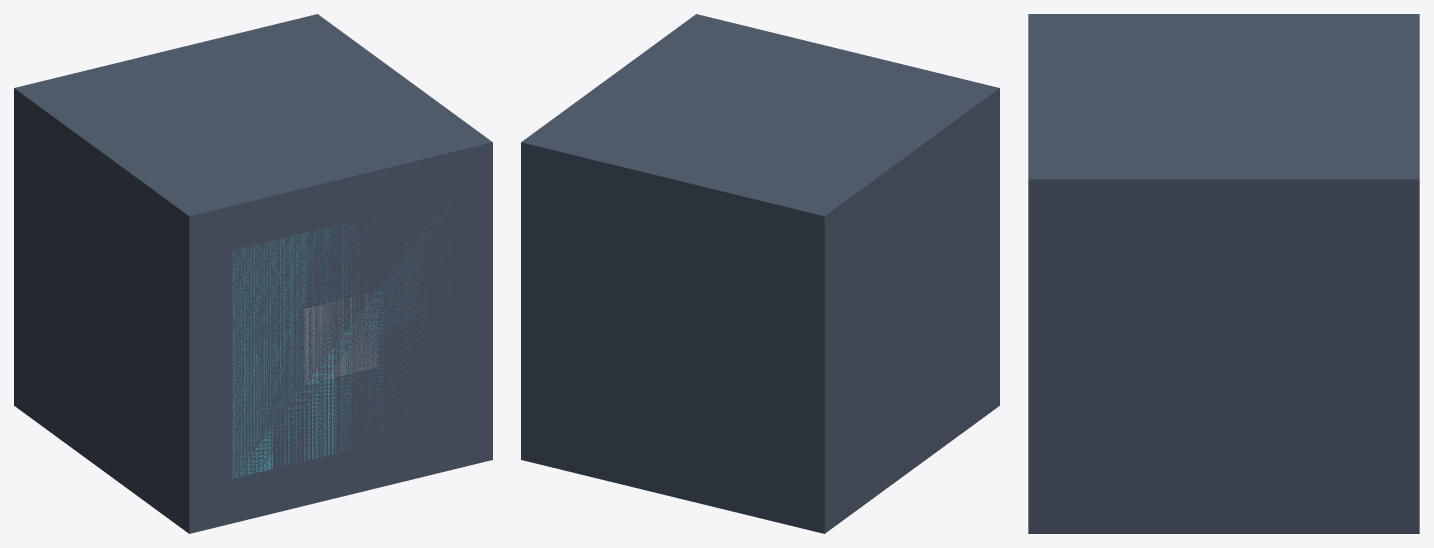
3 views of the same model, side by side, from view 1: azimuth 30°, elevation 25°; view 2: azimuth 150°, elevation 25°; view 3: azimuth 270°, elevation 25° (orthographic). The views are drawn at different scales.
Bounding box in the file's own units: 1 × 1 × 1.
